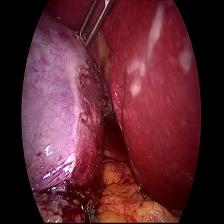Grasper: (75, 0, 120, 54)
